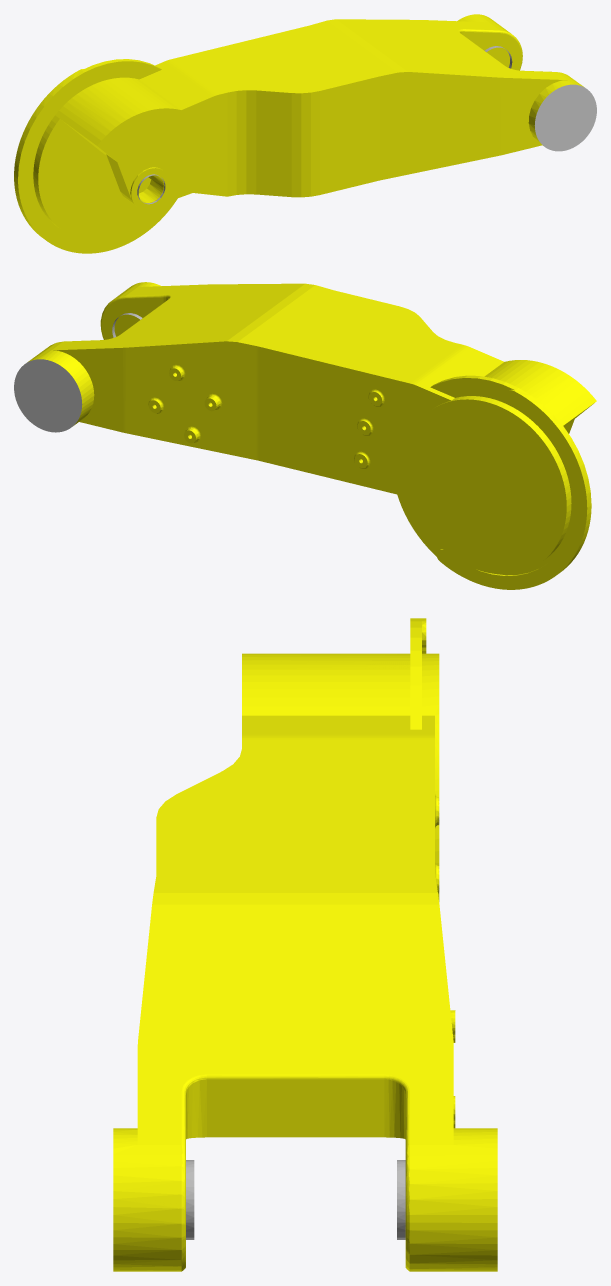
The picture shows the model from 3 angles, top to bottom: view 1: azimuth 30°, elevation 25°; view 2: azimuth 150°, elevation 25°; view 3: azimuth 270°, elevation 25°; orthographic projection. The views are drawn at different scales.
Parts seen in each view (by area): view 1: node; view 2: node; view 3: node.
Boxes of the visible parts, x1,y1,x2,y2 form: node: (14, 14, 596, 253); node: (14, 282, 596, 589); node: (113, 618, 497, 1271).
Bounding box in the file's own units: 1380 × 490 × 455.
